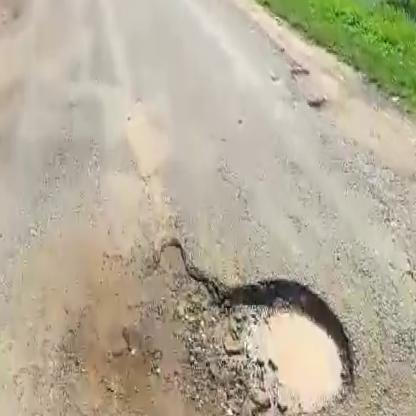pothole: (83, 231, 358, 416)
